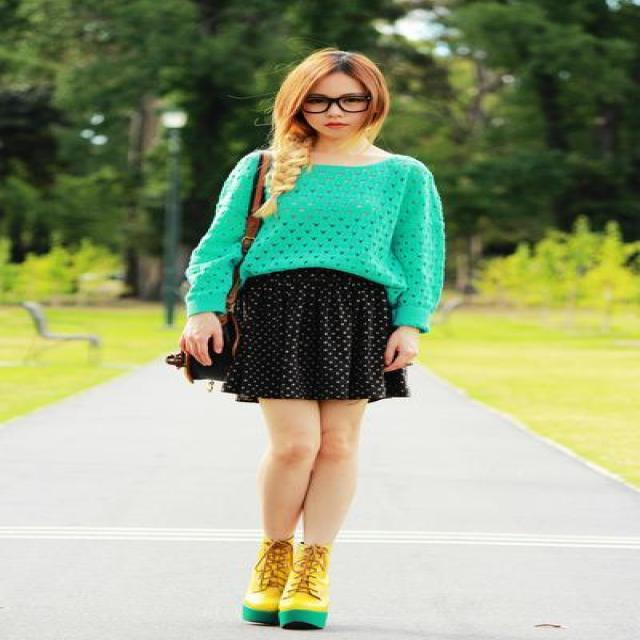bag: (164, 166, 290, 382)
jacket: (186, 150, 444, 332)
shoe: (243, 539, 330, 629)
skirt: (211, 266, 402, 412)
